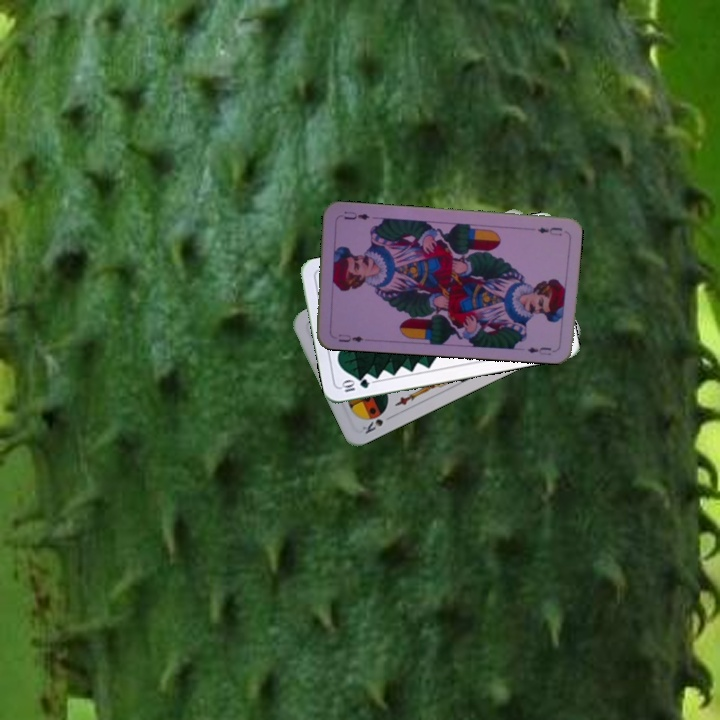EU: (334, 330, 366, 345), (533, 223, 565, 238)
G10: (337, 375, 372, 395)
SK: (358, 415, 386, 437)
